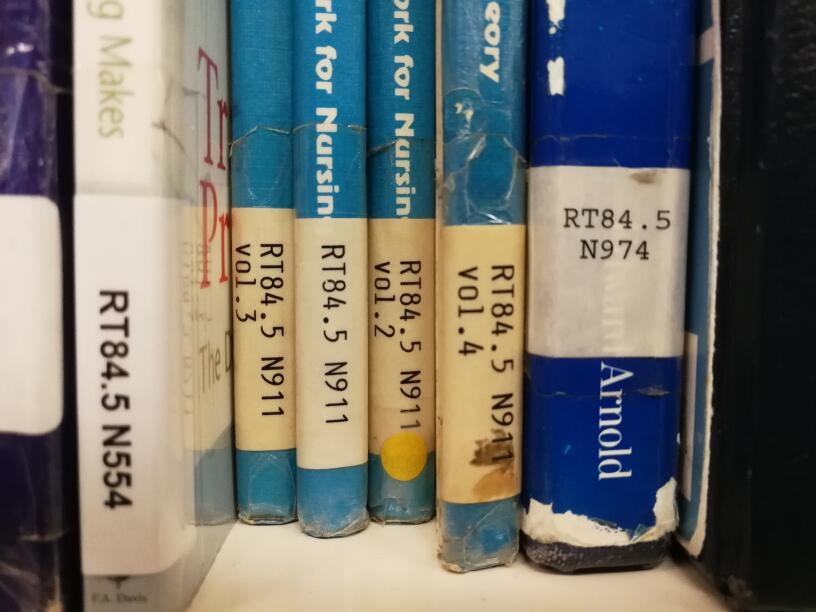booklabel: (451, 258, 520, 465), (228, 236, 290, 424), (93, 284, 140, 511), (368, 255, 424, 432), (560, 202, 677, 266), (314, 239, 353, 427)
